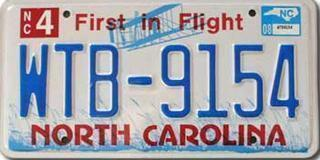placa de veiculo: (8, 1, 315, 156)
